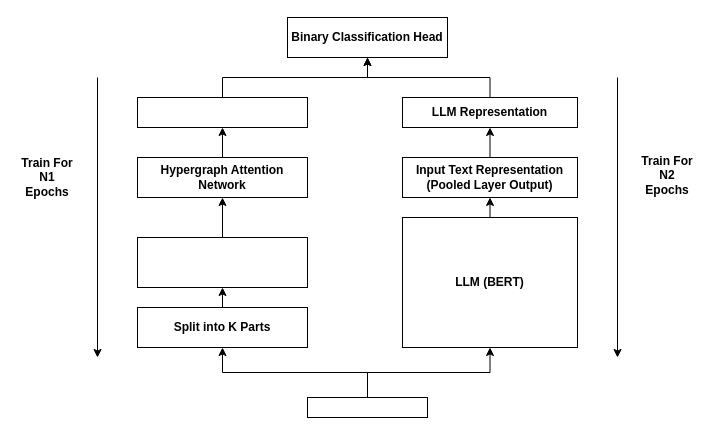
This 714x435 diagram has some shape labels left out. Here are the shapes that lost their labels. From the top down, the centre of each, then its label:
point 222,112: Graph Representation
point 222,262: Full Connected Hypergraph
point 367,407: Input Text
